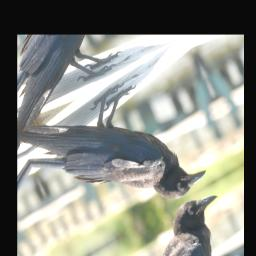Crow: (19, 53, 211, 256)
